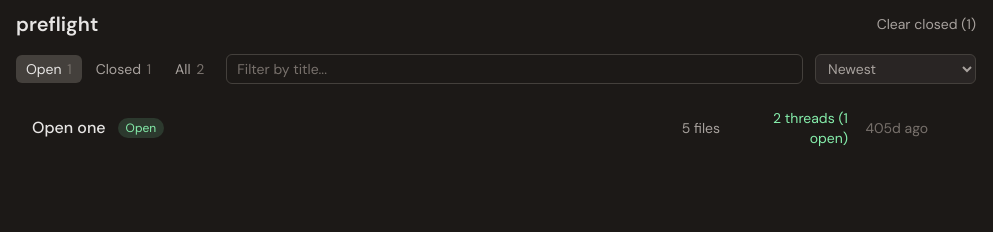
it: ReviewList filtering and sorting › status filter › shows all reviews when All tab is clicked
This screenshot has width=993, height=232.
Click the button "All 2" at (190, 69), box [165,55,214,83]
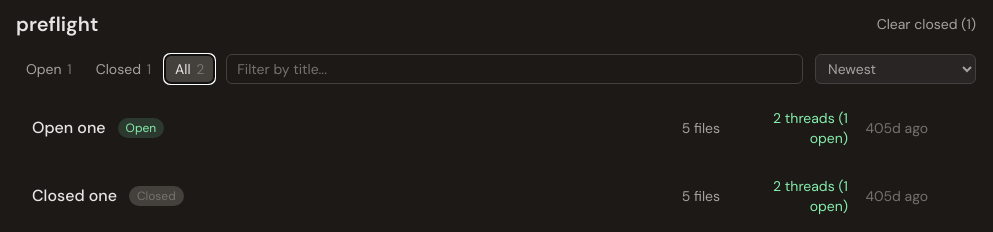
Expected: the text "Open one" is shown, [32,116,106,140]
Expected: the text "Closed one" is shown, [32,184,117,208]
